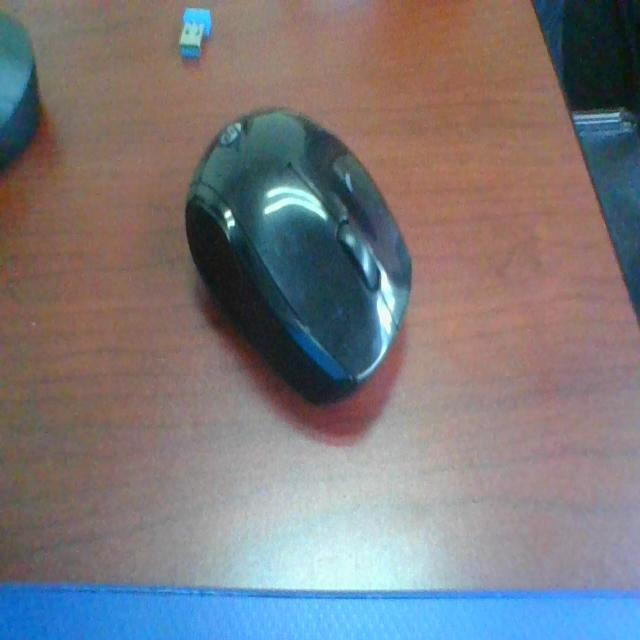mouse: (182, 84, 422, 410)
